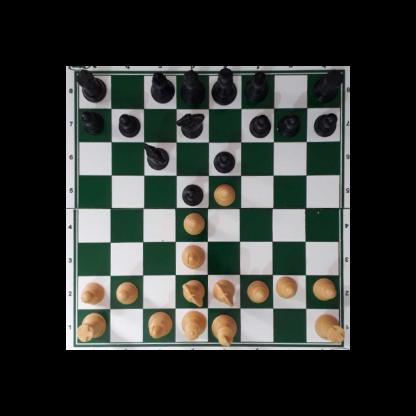black-bishop: (244, 70, 269, 103), (150, 71, 175, 103)
black-king: (213, 66, 237, 107)
black-knight: (143, 143, 169, 169), (178, 111, 203, 138)
black-pawn: (313, 112, 337, 137), (80, 110, 104, 135), (213, 149, 236, 173), (118, 112, 140, 137), (278, 112, 300, 136), (249, 114, 271, 138), (182, 183, 204, 205)
black-queen: (180, 69, 206, 104)
black-rook: (75, 68, 108, 103), (312, 71, 342, 102)
white-bishop: (147, 310, 171, 339), (181, 244, 205, 269)
white-king: (212, 312, 236, 346)
white-knight: (182, 280, 205, 306), (213, 279, 235, 306)
white-pawn: (79, 281, 106, 304), (311, 278, 336, 301), (115, 281, 138, 304), (246, 280, 269, 303), (275, 275, 297, 299), (213, 183, 236, 205), (183, 211, 205, 234)
white-queen: (181, 308, 205, 343)
white-rook: (314, 313, 345, 343), (76, 312, 107, 341)
